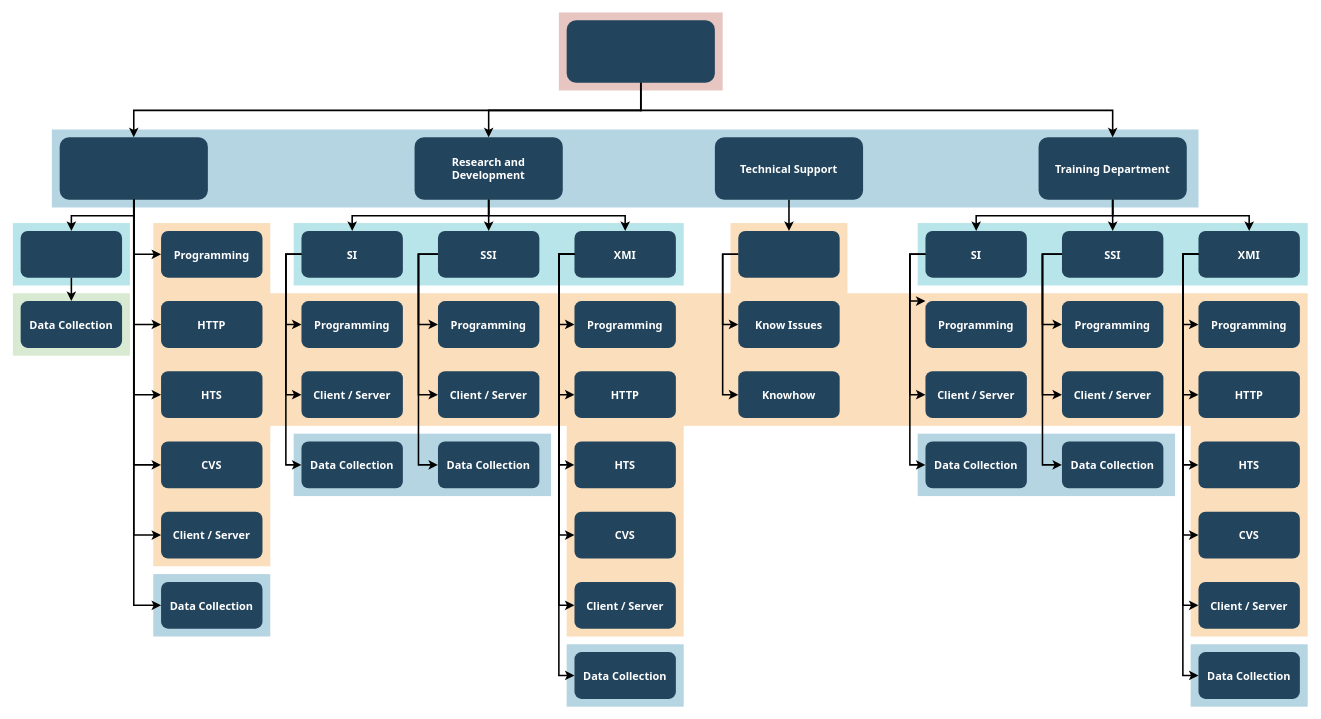
The diagram is 1321 pixels wide and 719 high, and some of its shapes have lost their labels. The box of each missing label's shape, as (x1, y1, x2, y2) in pixels:
FAQ: (738, 230, 839, 277)
Head of Development: (566, 20, 714, 82)
Human Resources: (59, 137, 207, 199)
Regular Report: (20, 230, 122, 277)
